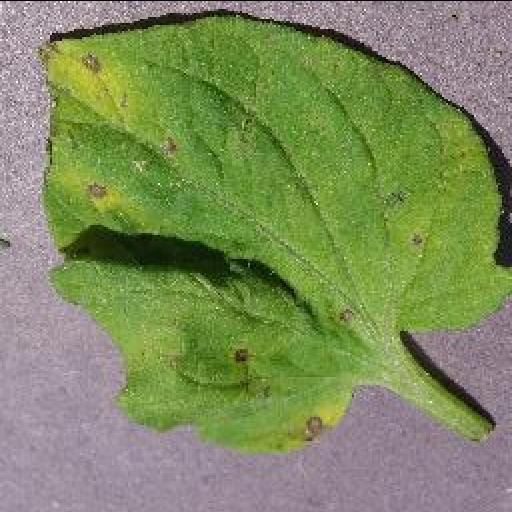disease_tomato: (40, 12, 512, 449)
